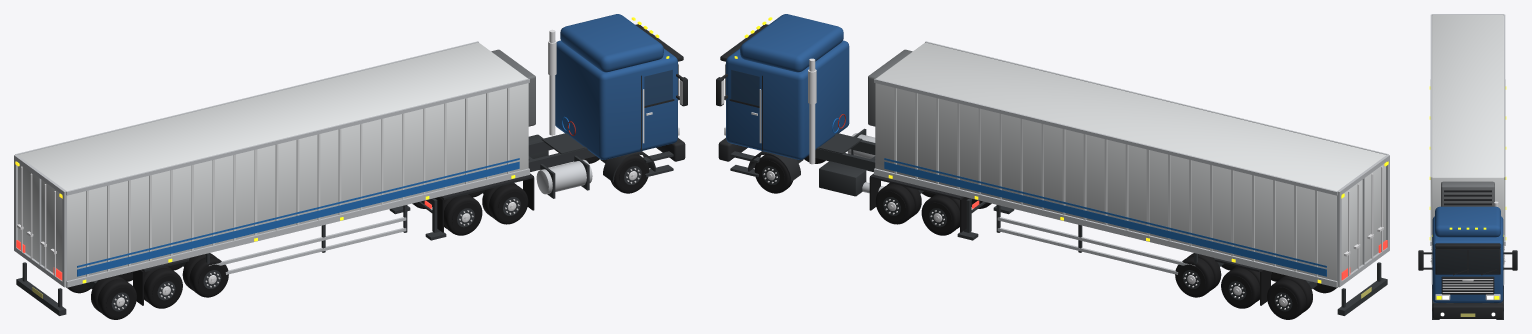
File: truck_semi.glb
3 renders of one model, left to right at view 1: azimuth 30°, elevation 25°; view 2: azimuth 150°, elevation 25°; view 3: azimuth 270°, elevation 25°, orthographic. The views are drawn at different scales.
Parts seen in each view (by area): view 1: truck_semi; view 2: truck_semi; view 3: truck_semi.
Part boxes in pixels (x1,y1,x2,y2): truck_semi: (14, 14, 687, 319); truck_semi: (716, 14, 1389, 319); truck_semi: (1418, 14, 1517, 319).
Bounding box in the file's own units: 18.38 × 4 × 3.5.
